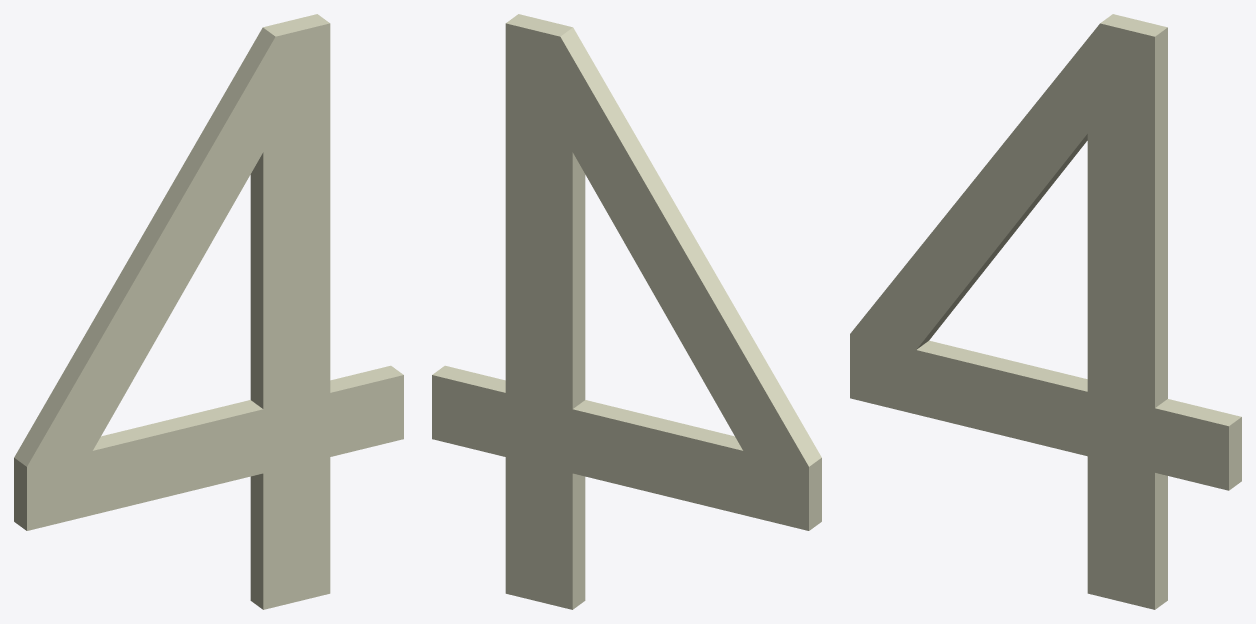
Rendered from original-85.obj.
The picture shows the model from 3 angles, left to right: view 1: azimuth 30°, elevation 25°; view 2: azimuth 150°, elevation 25°; view 3: azimuth 330°, elevation 25°; orthographic projection.
Visible parts, largest first — view 1: _4_1/_4/mesh118/mesh118-geometry#mesh118-geometry; view 2: _4_1/_4/mesh118/mesh118-geometry#mesh118-geometry; view 3: _4_1/_4/mesh118/mesh118-geometry#mesh118-geometry.
Part boxes in pixels (x1=…): _4_1/_4/mesh118/mesh118-geometry#mesh118-geometry: x1=14, y1=14, x2=403, y2=609; _4_1/_4/mesh118/mesh118-geometry#mesh118-geometry: x1=432, y1=14, x2=821, y2=609; _4_1/_4/mesh118/mesh118-geometry#mesh118-geometry: x1=850, y1=14, x2=1241, y2=609.
Bounding box in the file's own units: 0.0383 × 0.0554 × 0.00225.
